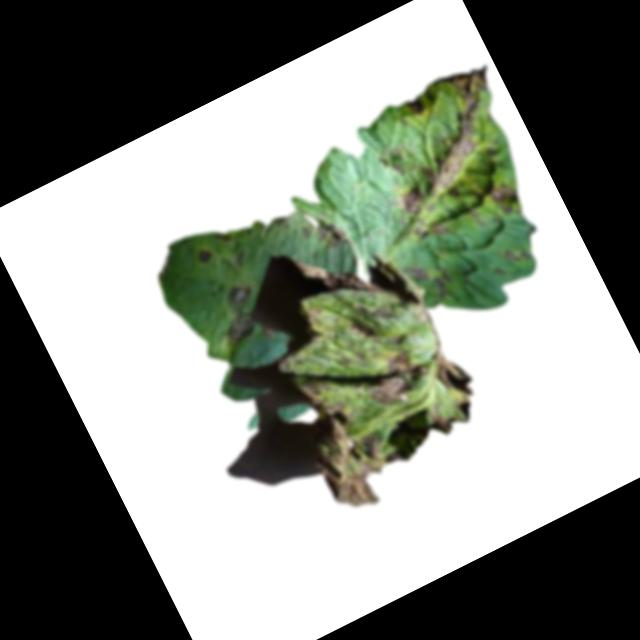Early_blight: (353, 60, 527, 222), (281, 362, 406, 518), (299, 232, 385, 319), (354, 343, 433, 414), (207, 282, 267, 346), (428, 349, 481, 407), (406, 253, 453, 305), (486, 177, 526, 219), (421, 398, 457, 441), (408, 212, 449, 247), (348, 313, 377, 344), (370, 299, 397, 326), (193, 245, 214, 266)
